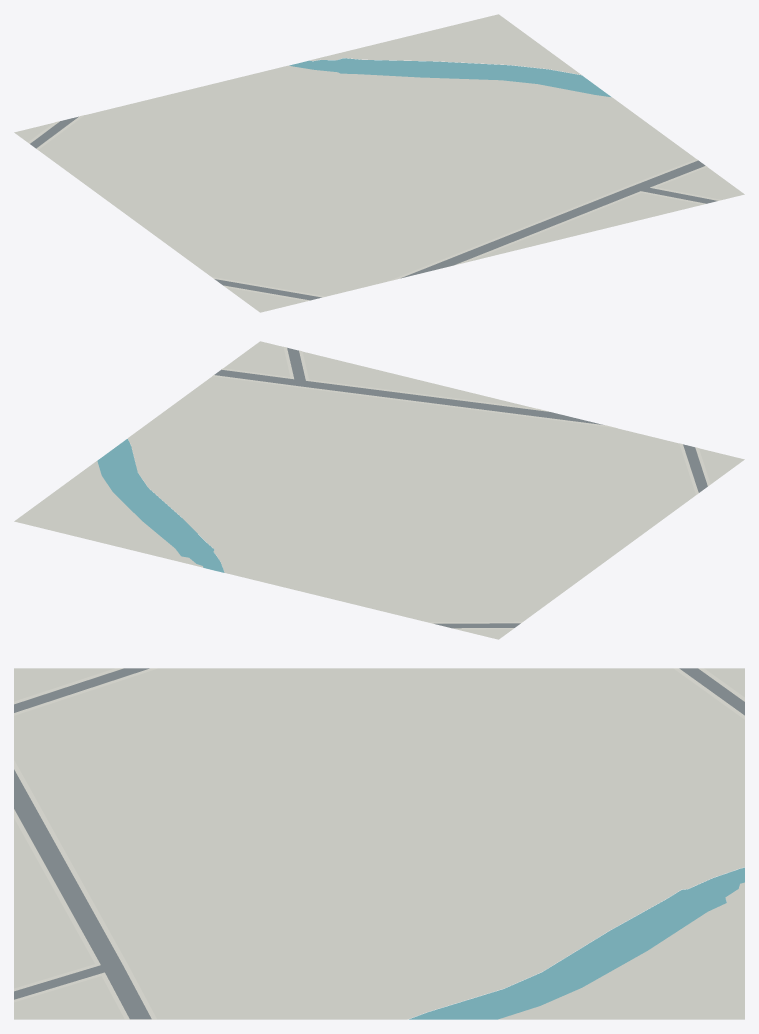
3 renders of one model, top to bottom at view 1: azimuth 30°, elevation 25°; view 2: azimuth 150°, elevation 25°; view 3: azimuth 270°, elevation 25°, orthographic. The views are drawn at different scales.
Visible parts, largest first — view 1: city; view 2: city; view 3: city.
Part boxes in pixels (bbox=[...]): city: bbox=[14, 14, 744, 312]; city: bbox=[14, 341, 744, 639]; city: bbox=[14, 668, 744, 1019].
Size of the model in its own units: 500 by 0.4 by 440.
